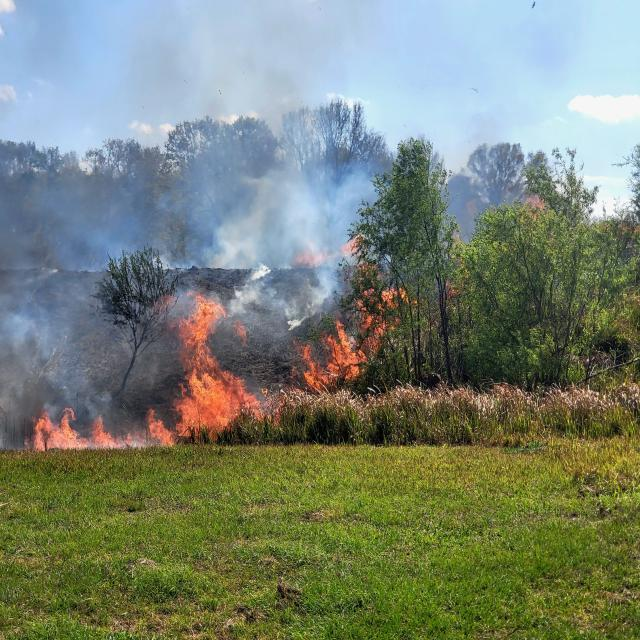Fire: (139, 298, 376, 434), (19, 402, 134, 457)
Smoke: (17, 97, 402, 330)
